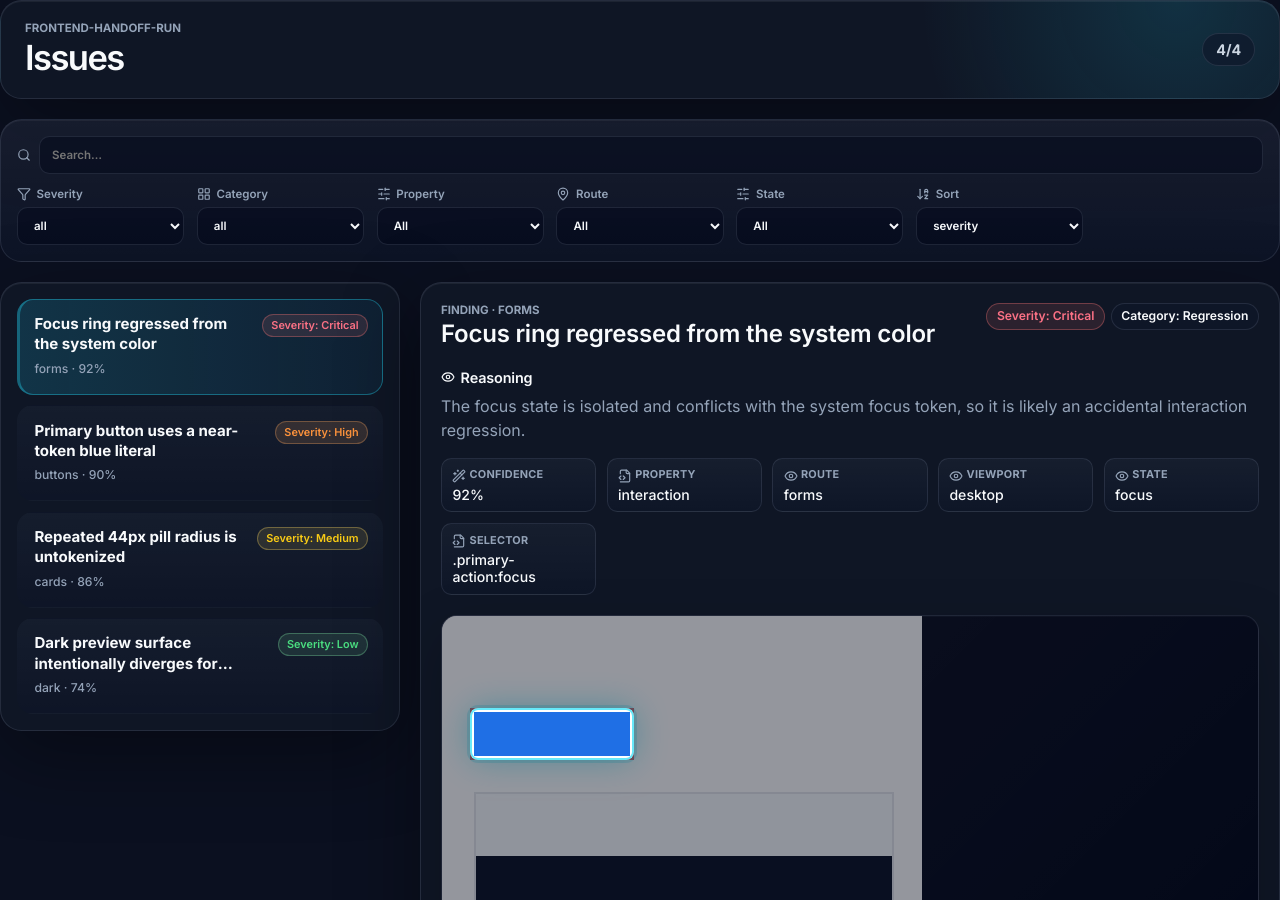
Scenario: IssueWorkbench › shows a no-results state
The image size is (1280, 900).
Type "does-not-exist" into the search field. click: (651, 155)
box: top-left (39, 136), bottom-right (1263, 174)
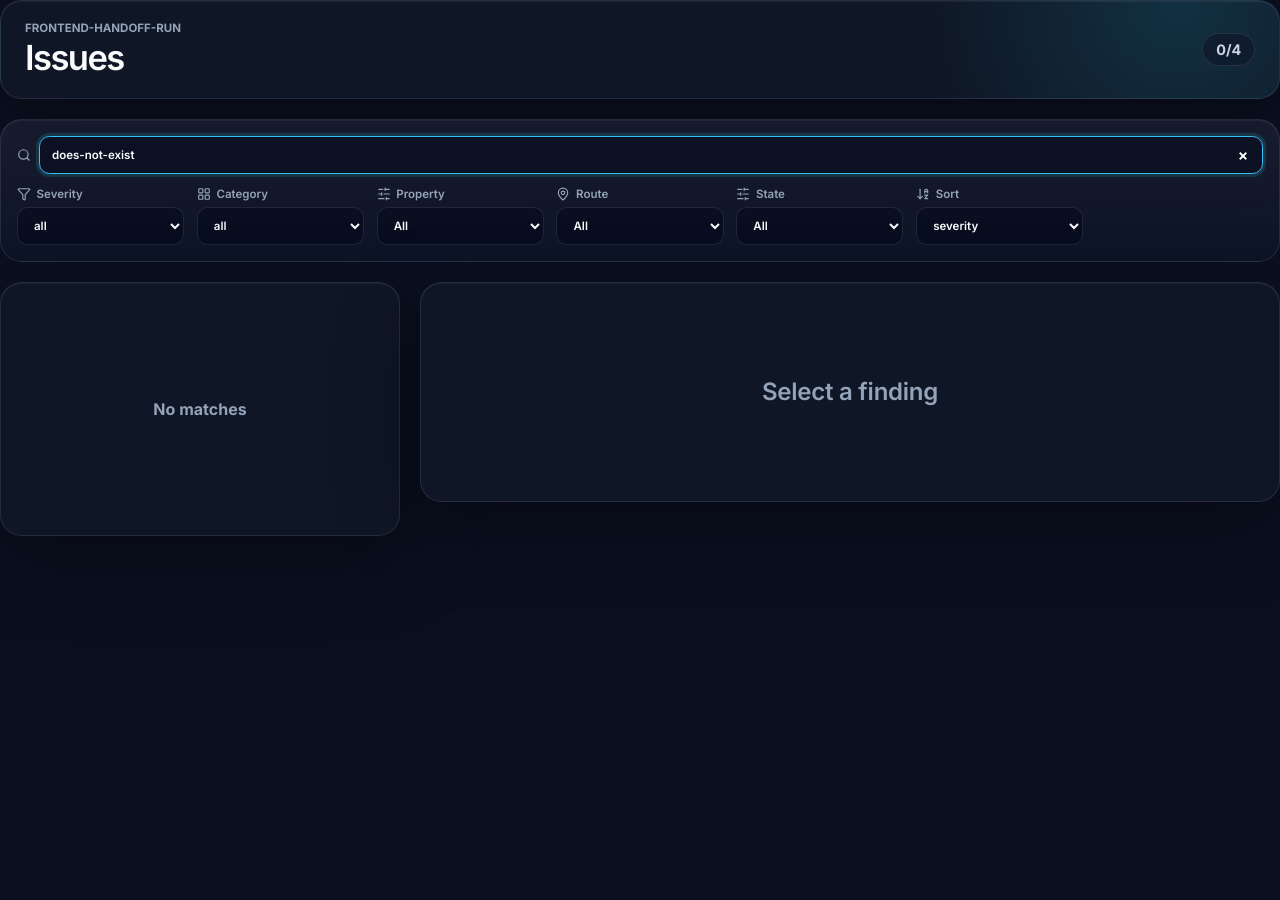
expect the text "No matches" is shown: met, box top-left (153, 399), bottom-right (247, 419)
expect the heading "Select a finding" is shown: met, box top-left (762, 377), bottom-right (938, 406)
